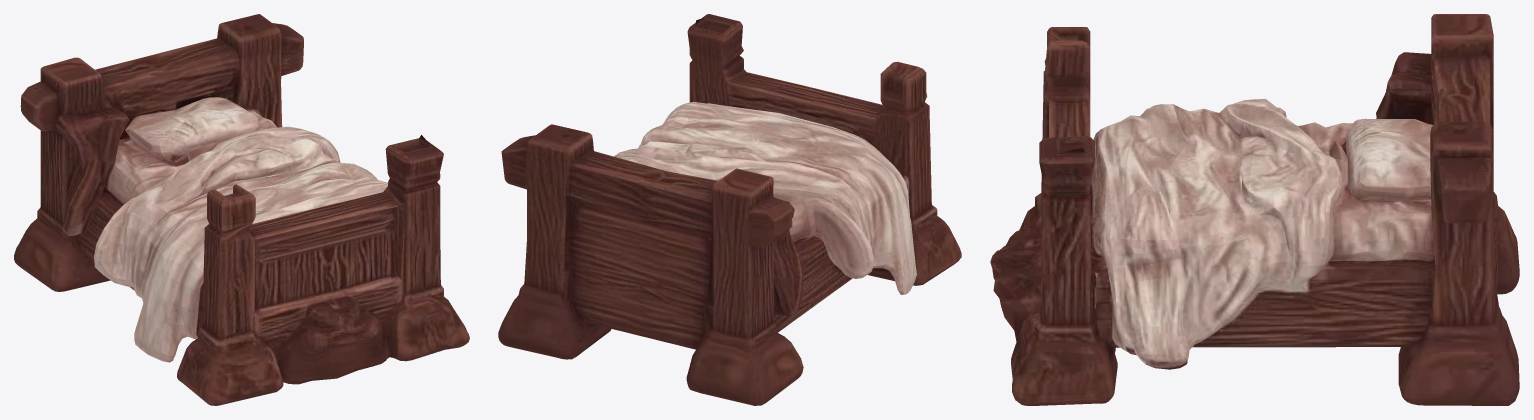
File: bed_rustic.glb
The picture shows the model from 3 angles, left to right: view 1: azimuth 30°, elevation 25°; view 2: azimuth 150°, elevation 25°; view 3: azimuth 270°, elevation 25°; orthographic projection. The views are drawn at different scales.
Size of the model in its own units: 1.45 by 1 by 1.9.
1 material, 1 textured.
